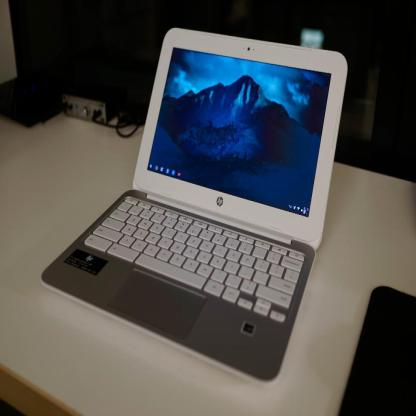board: (50, 25, 348, 387)
